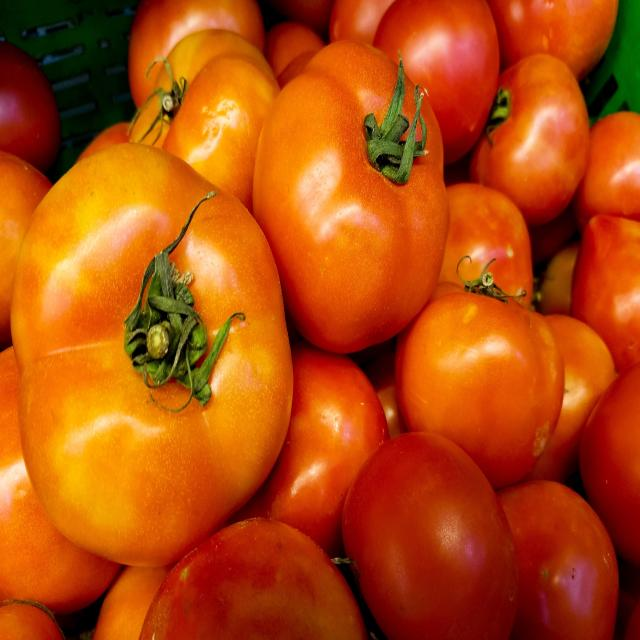Tomato: (15, 147, 286, 548), (244, 24, 442, 341)
